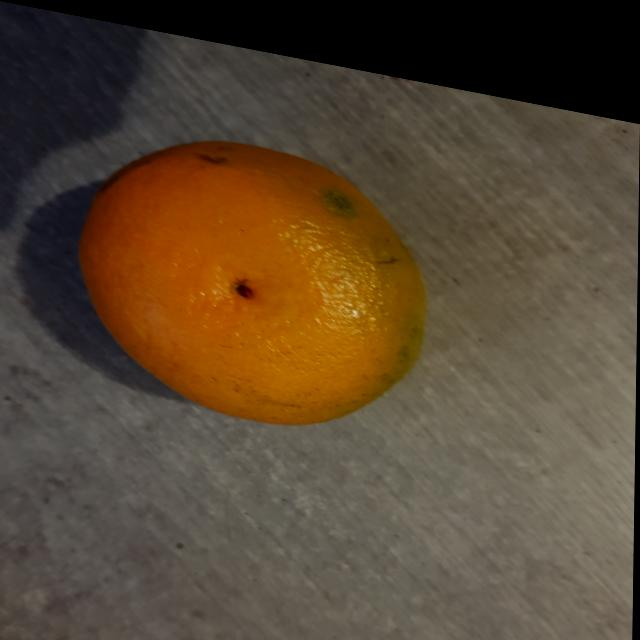Orange: (78, 130, 428, 414)
